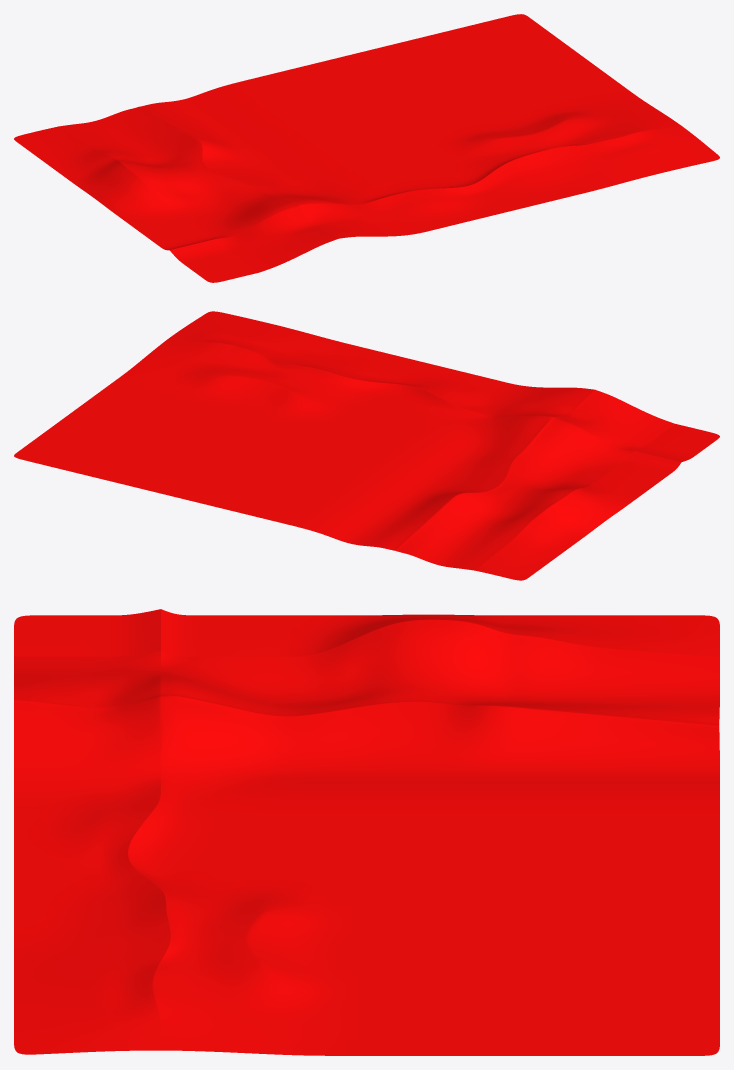
File: Duna5.fbx
The picture shows the model from 3 angles, top to bottom: view 1: azimuth 30°, elevation 25°; view 2: azimuth 150°, elevation 25°; view 3: azimuth 270°, elevation 25°; orthographic projection. The views are drawn at different scales.
Parts seen in each view (by area): view 1: Plane.010; view 2: Plane.010; view 3: Plane.010.
Part boxes in pixels (x1,y1,x2,y2): Plane.010: (14, 14, 719, 282); Plane.010: (14, 311, 719, 580); Plane.010: (14, 609, 719, 1055).
Bounding box in the file's own units: 34742 × 1366 × 23532.
